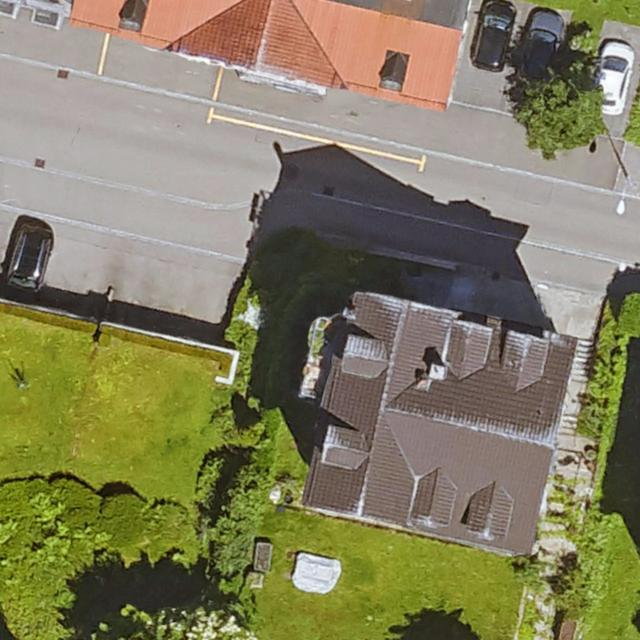tree: (522, 55, 600, 148), (100, 597, 255, 640)
